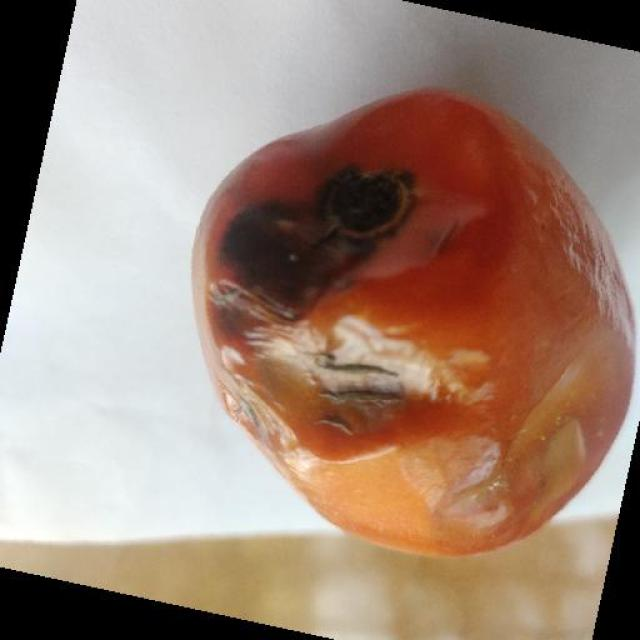Stale_tomato: (178, 104, 619, 554)
